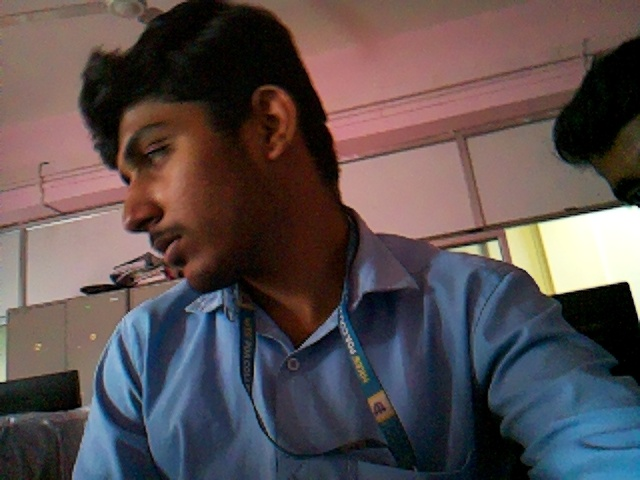Vaibhav: (76, 0, 350, 297)
